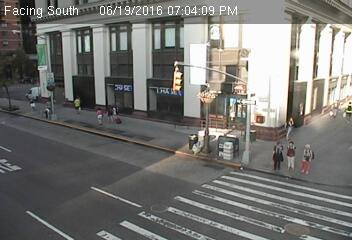neg: (289, 186, 314, 220), (211, 33, 235, 65), (83, 35, 106, 66), (67, 183, 88, 212), (266, 56, 287, 83), (33, 132, 54, 159), (294, 79, 314, 105), (116, 161, 134, 186), (33, 41, 51, 66), (169, 60, 187, 84), (164, 152, 182, 176), (236, 87, 253, 110), (236, 198, 253, 220), (156, 200, 172, 221), (224, 145, 239, 166), (194, 124, 209, 144), (128, 54, 143, 74), (206, 90, 220, 109), (319, 36, 332, 54)
pos: (297, 141, 320, 172), (264, 140, 286, 170), (281, 139, 303, 168), (282, 112, 301, 137), (71, 94, 87, 115), (92, 107, 107, 127), (110, 103, 122, 120)
